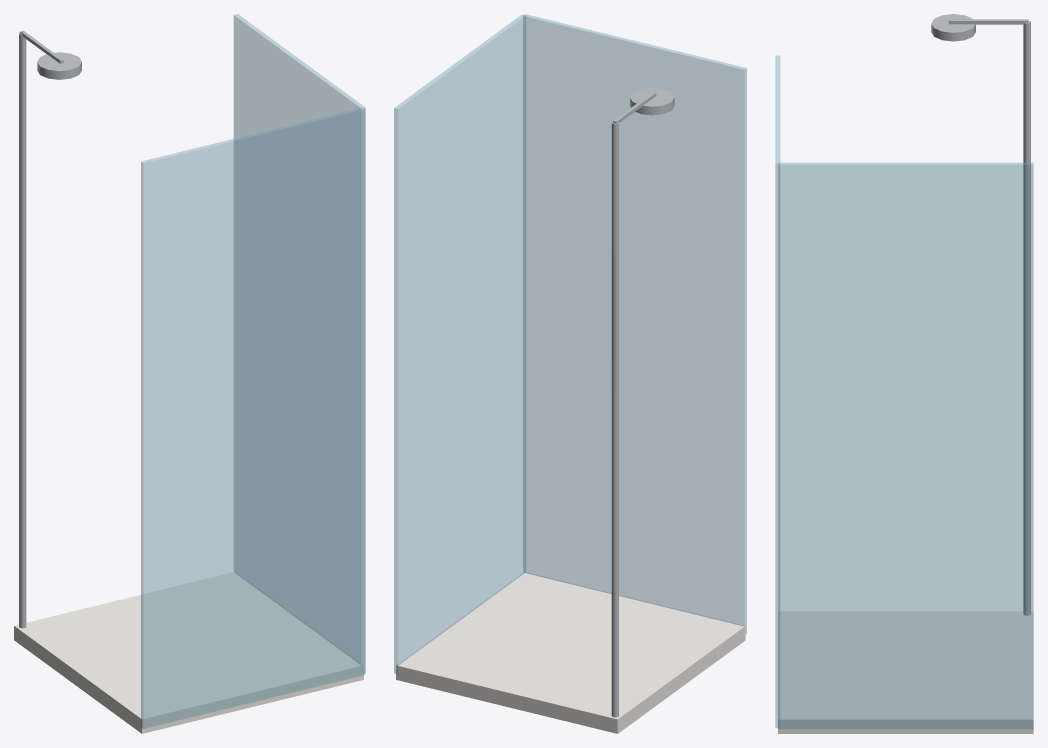
The model's file is shower.glb.
The picture shows the model from 3 angles, left to right: view 1: azimuth 30°, elevation 25°; view 2: azimuth 150°, elevation 25°; view 3: azimuth 270°, elevation 25°; orthographic projection.
Visible parts, largest first — view 1: shower; view 2: shower; view 3: shower.
Boxes of the visible parts, x1,y1,x2,y2 form: shower: [14, 14, 365, 733]; shower: [394, 14, 746, 733]; shower: [775, 14, 1033, 733].
Bounding box in the file's own units: 0.8575 × 2.11 × 0.8075.
